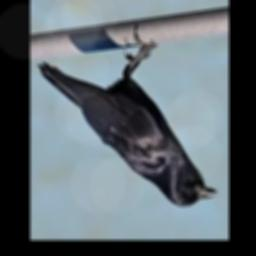Crow: (37, 35, 218, 207)
